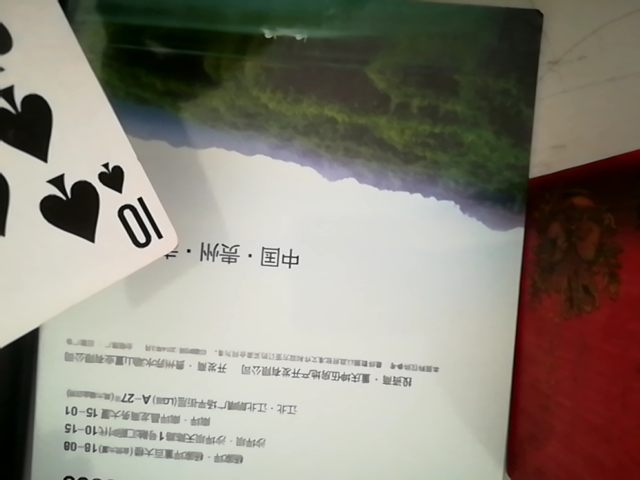ht 10: (0, 0, 184, 405)
